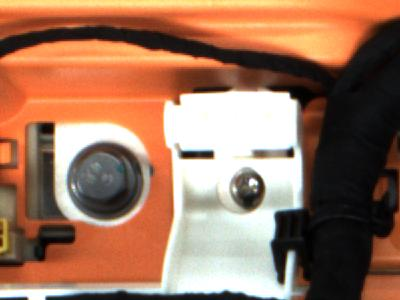nut_b: (64, 143, 147, 218)
screw_m: (223, 161, 275, 218)
